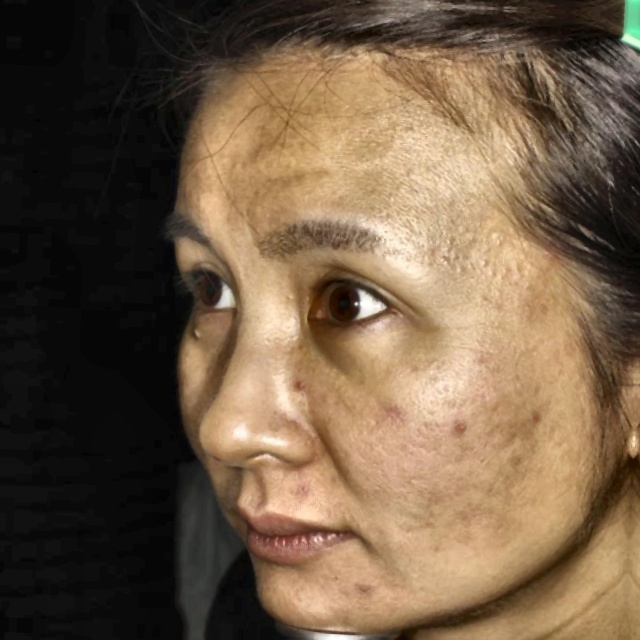comedone: (352, 572, 387, 615), (450, 414, 477, 446)
